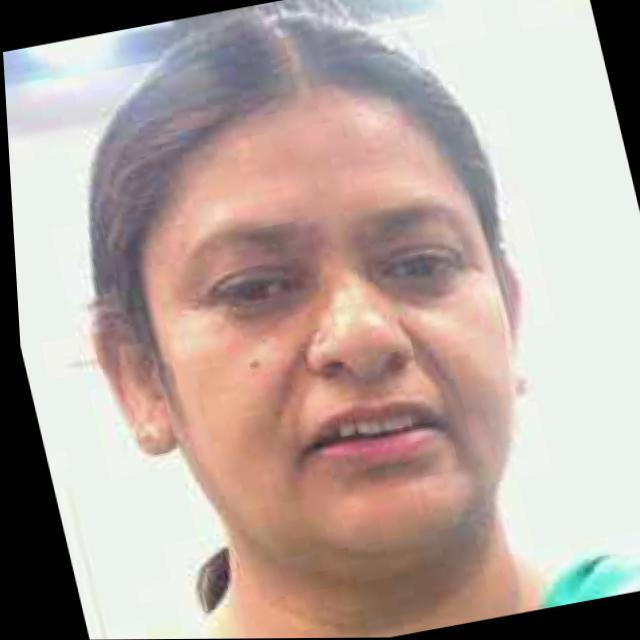puffy_eyes: (361, 256, 463, 309), (210, 283, 308, 318)
